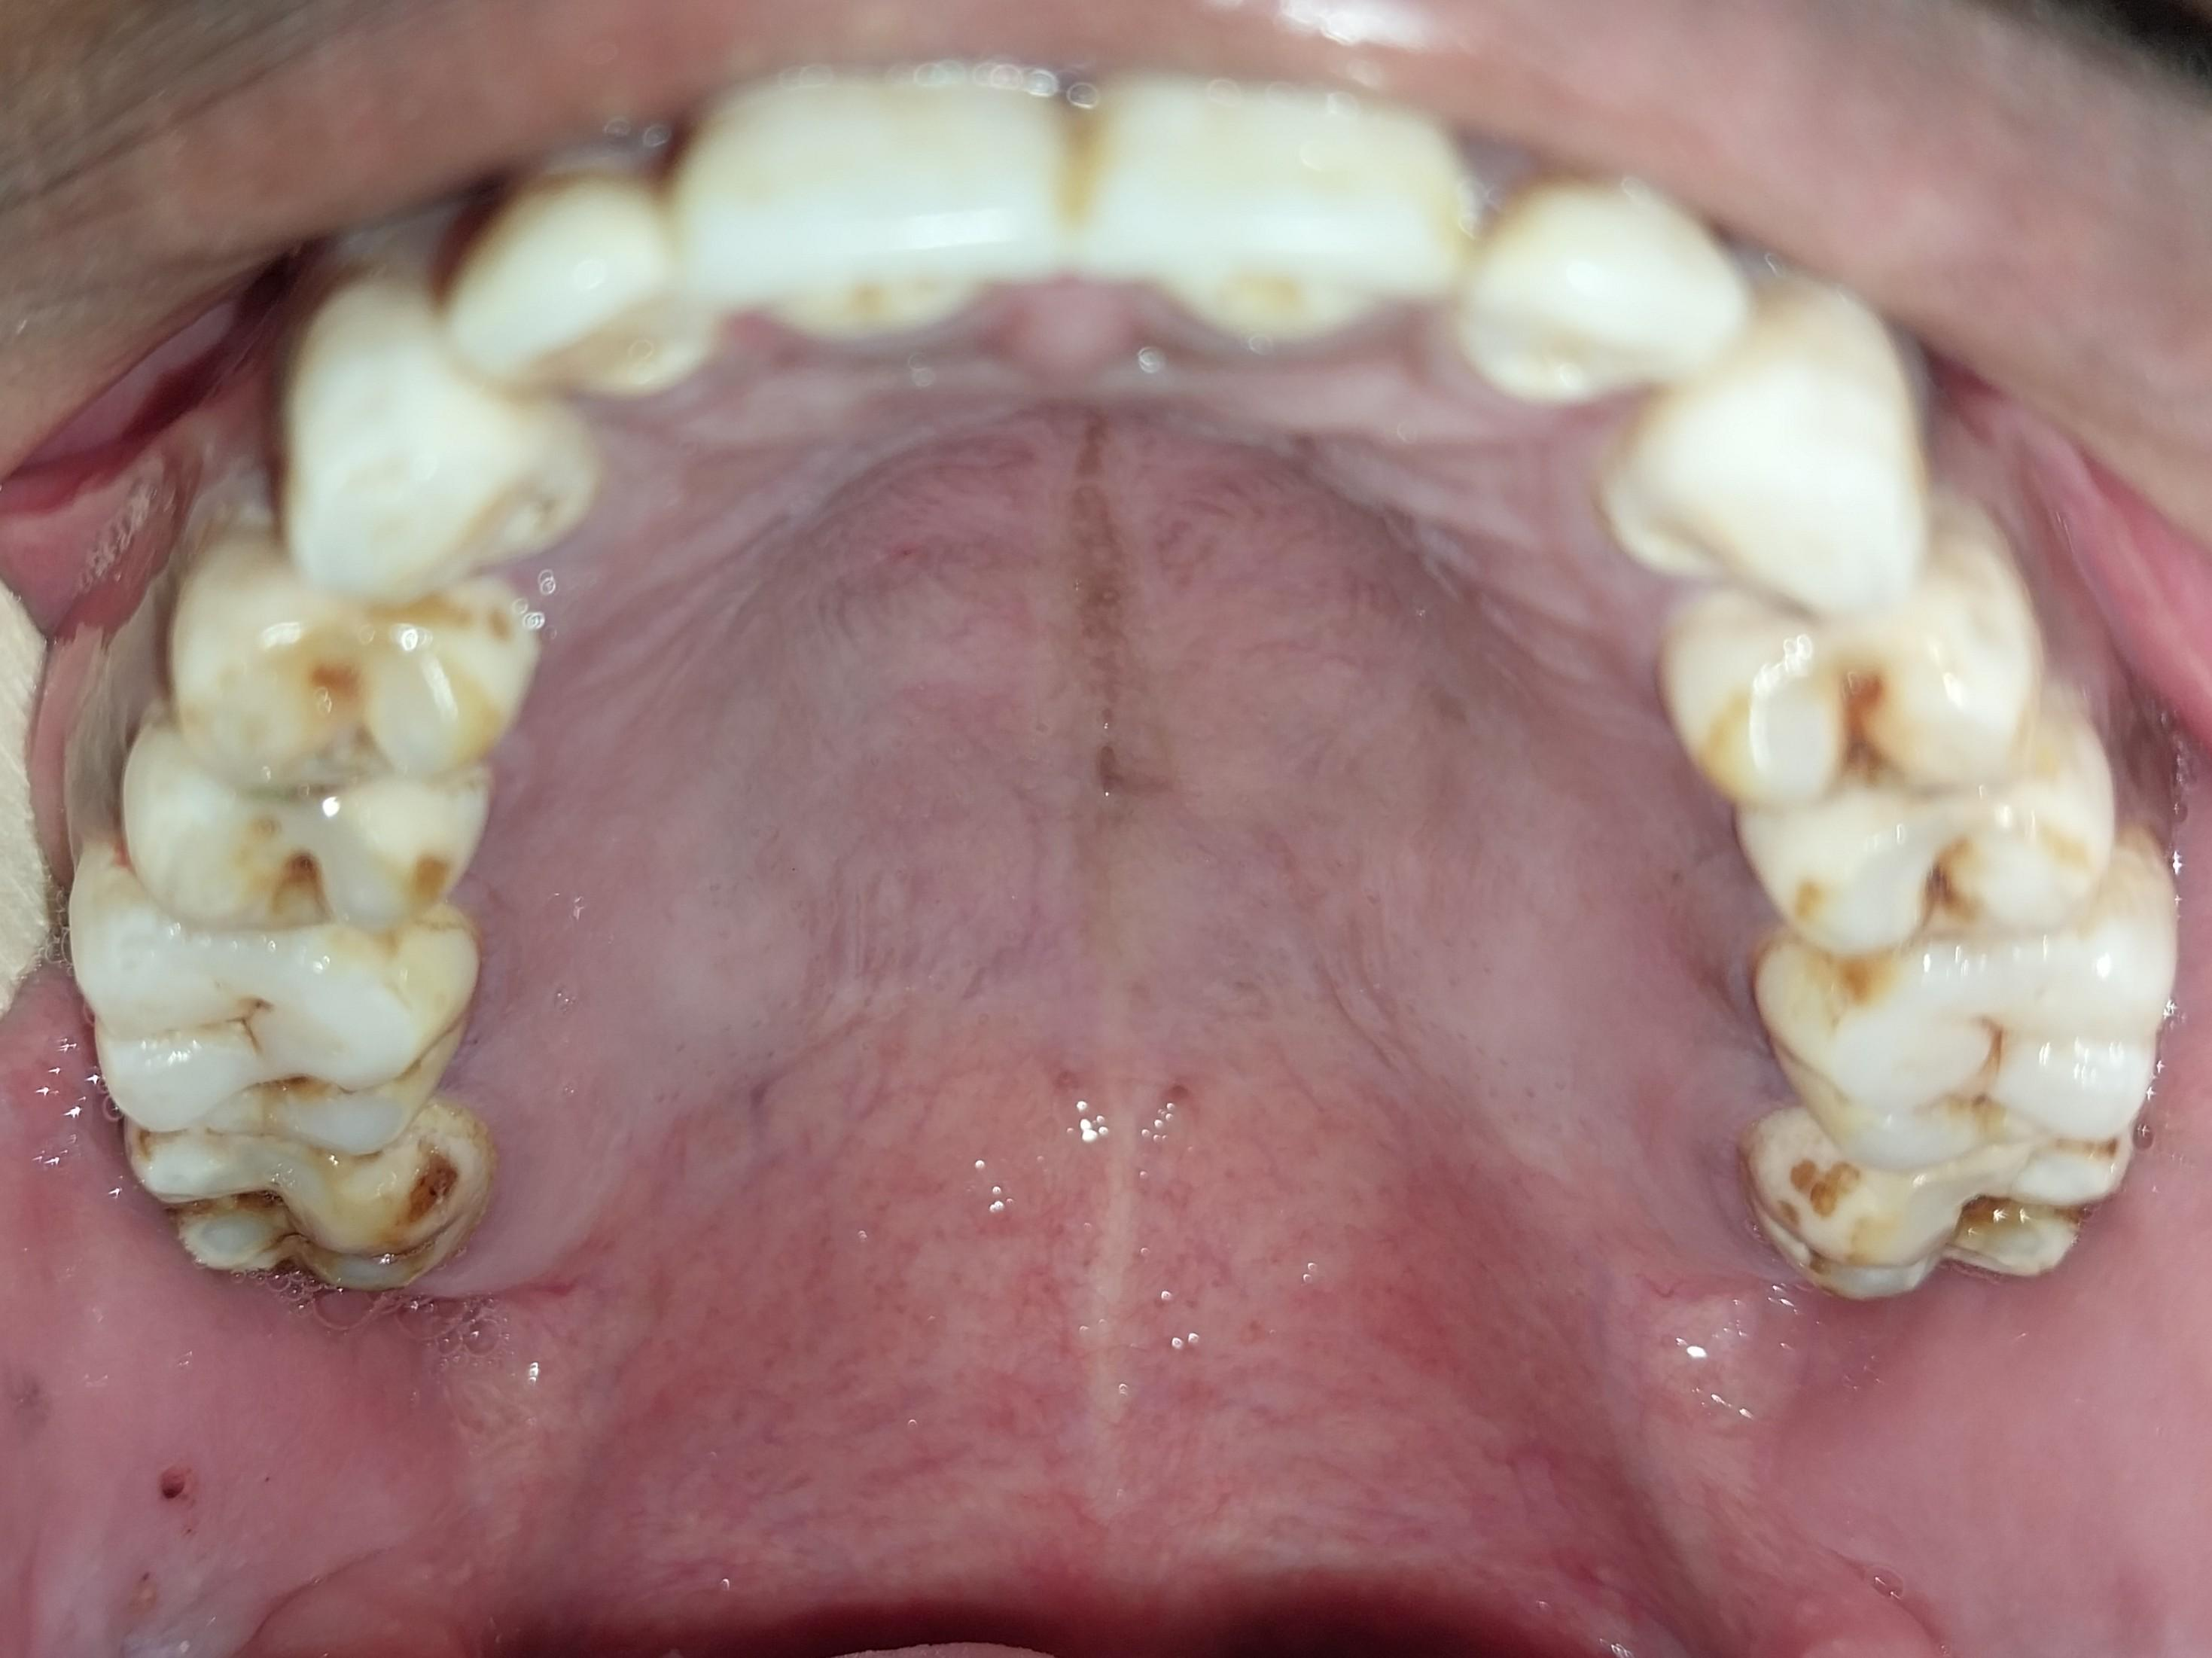D: (38, 842, 483, 1149), (1757, 865, 2201, 1149), (143, 509, 545, 778), (89, 715, 499, 937), (1756, 1090, 2132, 1309), (89, 1111, 504, 1303)
